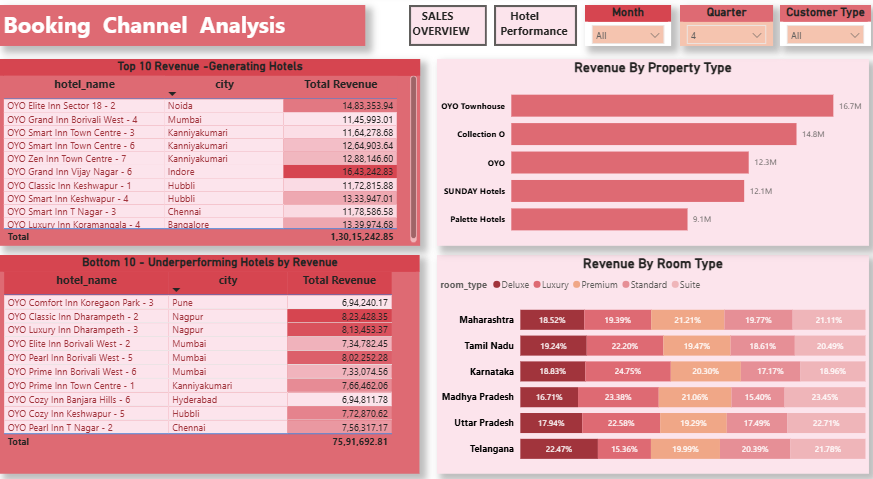

What the dashboard file says about the page in this screenshot:
{"tool":"powerbi","page":{"name":"Booking Channel Analysis","canvas":[1280,720],"ordinal":2},"visuals":[{"type":"tableEx","title":"Top 10 Revenue -Generating Hotels","fields":{"Values":["Dim_Hotels.hotel_name","Dim_Hotels.city","Customer RFM.Total Revenue"]},"box":[10.1,90.7,604.8,269.3],"z":0},{"type":"hundredPercentStackedBarChart","title":"Revenue By Room Type","fields":{"Category":["Dim_Hotels.state"],"Series":["Dim_Rooms.room_type"],"Y":["Customer RFM.Total Revenue"]},"box":[640,373.6,622.1,314.6],"z":1000},{"type":"tableEx","title":"Bottom 10 - Underperforming Hotels by Revenue","fields":{"Values":["Dim_Hotels.hotel_name","Dim_Hotels.city","Customer RFM.Total Revenue"]},"box":[10.7,373.6,604.2,314.6],"z":2000},{"type":"clusteredBarChart","title":"Revenue By Property Type","fields":{"Category":["Dim_Hotels.property_type"],"Y":["Customer RFM.Total Revenue"]},"box":[639.4,90.7,622.1,269.3],"z":3000},{"type":"slicer","title":"Month","fields":{"Values":["Dim_Date.month_name"]},"box":[852.5,13,123.8,59],"z":3001},{"type":"slicer","title":"Quarter","fields":{"Values":["Dim_Date.quarter"]},"box":[989.3,13,133.9,59],"z":3002},{"type":"slicer","title":"Customer Type","fields":{"Values":["Dim_Customers.customer_type"]},"box":[1133.3,13,131,59],"z":3003},{"type":"textbox","box":[10.1,13,525.6,59],"z":3004},{"type":"textbox","box":[599,13,112.3,59],"z":3005},{"type":"textbox","box":[721.4,13,119.5,59],"z":3006},{"type":"actionButton","box":[599,13,112.3,59],"z":3007},{"type":"actionButton","box":[721.4,13,119.5,59],"z":3008}]}

Visuals, with their boxes in screenshot pixels (x1, y1, x2, y2), scaled from the page's 1280x720 canvas onto the 873x479 screenshot:
"Top 10 Revenue -Generating Hotels" tableEx: bbox(7, 60, 419, 240)
"Revenue By Room Type" hundredPercentStackedBarChart: bbox(436, 249, 861, 458)
"Bottom 10 - Underperforming Hotels by Revenue" tableEx: bbox(7, 249, 419, 458)
"Revenue By Property Type" clusteredBarChart: bbox(436, 60, 860, 240)
"Month" slicer: bbox(581, 9, 666, 48)
"Quarter" slicer: bbox(675, 9, 766, 48)
"Customer Type" slicer: bbox(773, 9, 862, 48)
textbox: bbox(7, 9, 365, 48)
textbox: bbox(409, 9, 485, 48)
textbox: bbox(492, 9, 574, 48)
actionButton: bbox(409, 9, 485, 48)
actionButton: bbox(492, 9, 574, 48)
